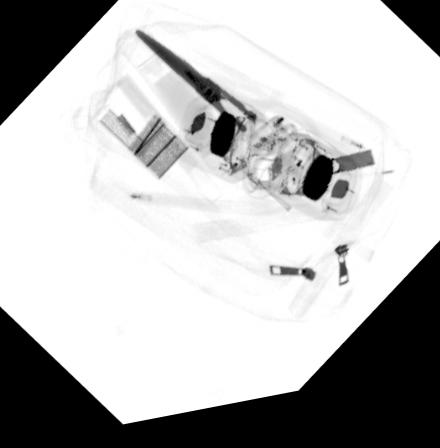Scissors: (132, 33, 334, 214)
